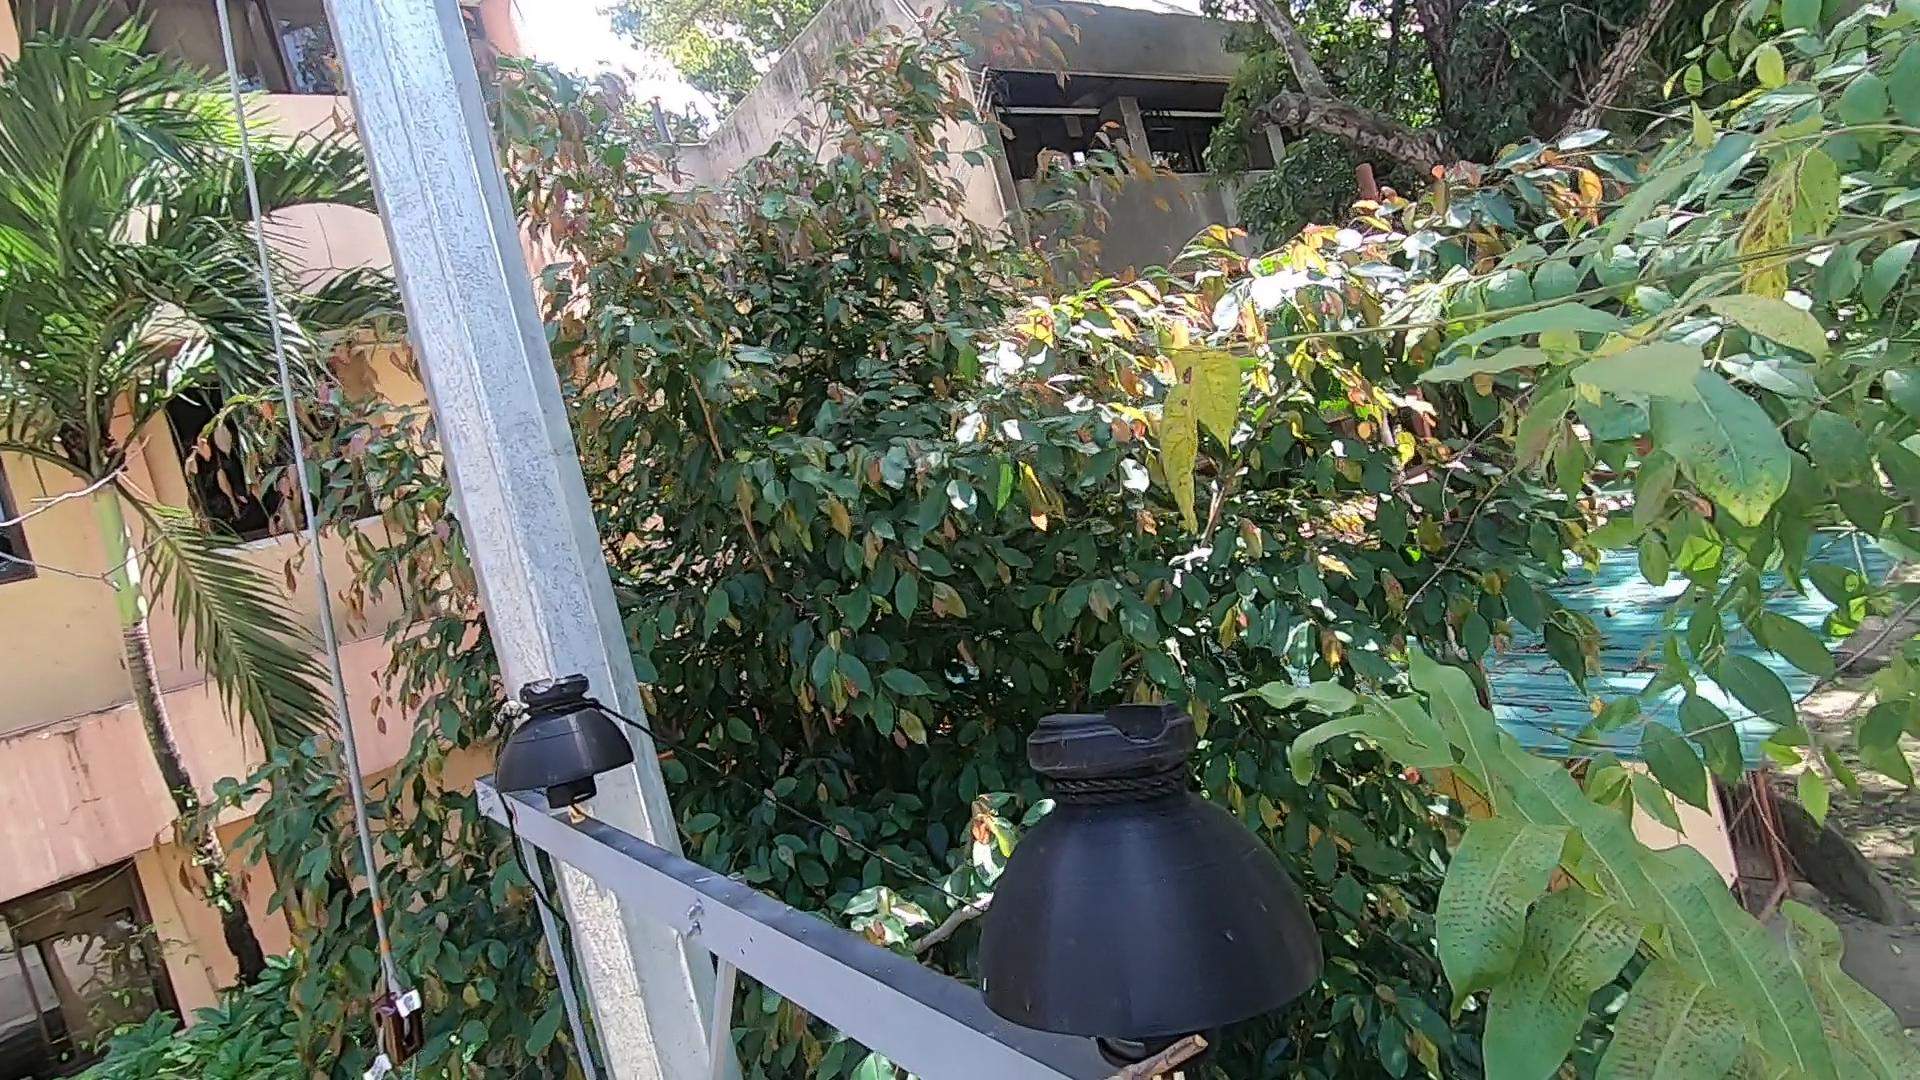tree branch: (869, 893, 1011, 955), (1081, 1035, 1222, 1080)
